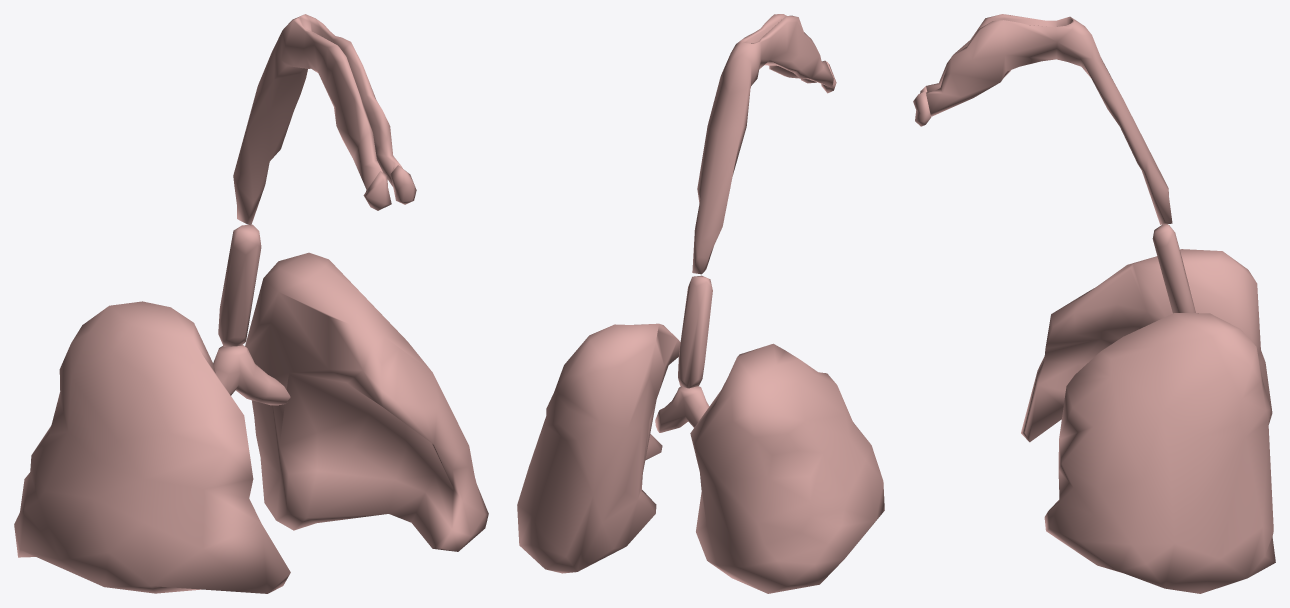
File: pediatric_neonate_female.respiratory.LOD3.glb
3 views of the same model, side by side, from view 1: azimuth 30°, elevation 25°; view 2: azimuth 150°, elevation 25°; view 3: azimuth 270°, elevation 25° (orthographic). The views are drawn at different scales.
Parts seen in each view (by area): view 1: PEDIATRIC.NEONATE.FEMALE.RESPIRATORY.LUNG.R, PEDIATRIC.NEONATE.FEMALE.RESPIRATORY.LUNG.L, PEDIATRIC.NEONATE.FEMALE.RESPIRATORY.ET2, PEDIATRIC.NEONATE.FEMALE.RESPIRATORY.TRACHEA, PEDIATRIC.NEONATE.FEMALE.RESPIRATORY.BB1, PEDIATRIC.NEONATE.FEMALE.RESPIRATORY.ET1; view 2: PEDIATRIC.NEONATE.FEMALE.RESPIRATORY.LUNG.R, PEDIATRIC.NEONATE.FEMALE.RESPIRATORY.LUNG.L, PEDIATRIC.NEONATE.FEMALE.RESPIRATORY.ET2, PEDIATRIC.NEONATE.FEMALE.RESPIRATORY.TRACHEA, PEDIATRIC.NEONATE.FEMALE.RESPIRATORY.BB1; view 3: PEDIATRIC.NEONATE.FEMALE.RESPIRATORY.LUNG.L, PEDIATRIC.NEONATE.FEMALE.RESPIRATORY.LUNG.R, PEDIATRIC.NEONATE.FEMALE.RESPIRATORY.ET2, PEDIATRIC.NEONATE.FEMALE.RESPIRATORY.TRACHEA, PEDIATRIC.NEONATE.FEMALE.RESPIRATORY.ET1.
Boxes of the visible parts, x1,y1,x2,y2 form: PEDIATRIC.NEONATE.FEMALE.RESPIRATORY.LUNG.R: [14, 301, 290, 593]; PEDIATRIC.NEONATE.FEMALE.RESPIRATORY.LUNG.L: [245, 252, 488, 551]; PEDIATRIC.NEONATE.FEMALE.RESPIRATORY.ET2: [233, 14, 402, 225]; PEDIATRIC.NEONATE.FEMALE.RESPIRATORY.TRACHEA: [218, 224, 261, 346]; PEDIATRIC.NEONATE.FEMALE.RESPIRATORY.BB1: [213, 345, 290, 405]; PEDIATRIC.NEONATE.FEMALE.RESPIRATORY.ET1: [363, 165, 416, 210]; PEDIATRIC.NEONATE.FEMALE.RESPIRATORY.LUNG.R: [690, 343, 884, 593]; PEDIATRIC.NEONATE.FEMALE.RESPIRATORY.LUNG.L: [517, 323, 680, 573]; PEDIATRIC.NEONATE.FEMALE.RESPIRATORY.ET2: [692, 14, 833, 274]; PEDIATRIC.NEONATE.FEMALE.RESPIRATORY.TRACHEA: [678, 275, 712, 388]; PEDIATRIC.NEONATE.FEMALE.RESPIRATORY.BB1: [655, 386, 709, 432]; PEDIATRIC.NEONATE.FEMALE.RESPIRATORY.LUNG.L: [1044, 313, 1275, 593]; PEDIATRIC.NEONATE.FEMALE.RESPIRATORY.LUNG.R: [1021, 249, 1272, 442]; PEDIATRIC.NEONATE.FEMALE.RESPIRATORY.ET2: [926, 14, 1172, 224]; PEDIATRIC.NEONATE.FEMALE.RESPIRATORY.TRACHEA: [1152, 224, 1195, 313]; PEDIATRIC.NEONATE.FEMALE.RESPIRATORY.ET1: [913, 86, 931, 126].
Bounding box in the file's own units: 0.0957 × 0.133 × 0.0876.
